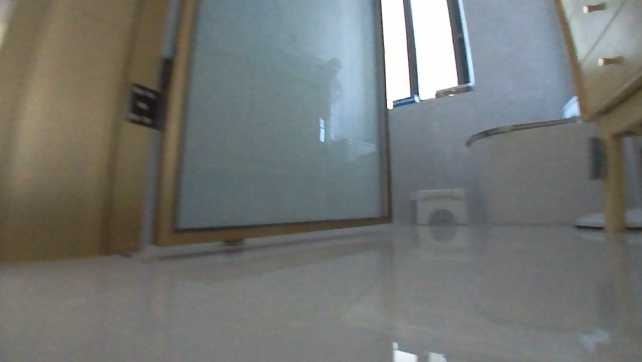door_anno: (150, 0, 395, 249)
plastic_stool: (410, 185, 466, 225)
toilet: (462, 92, 619, 224)
